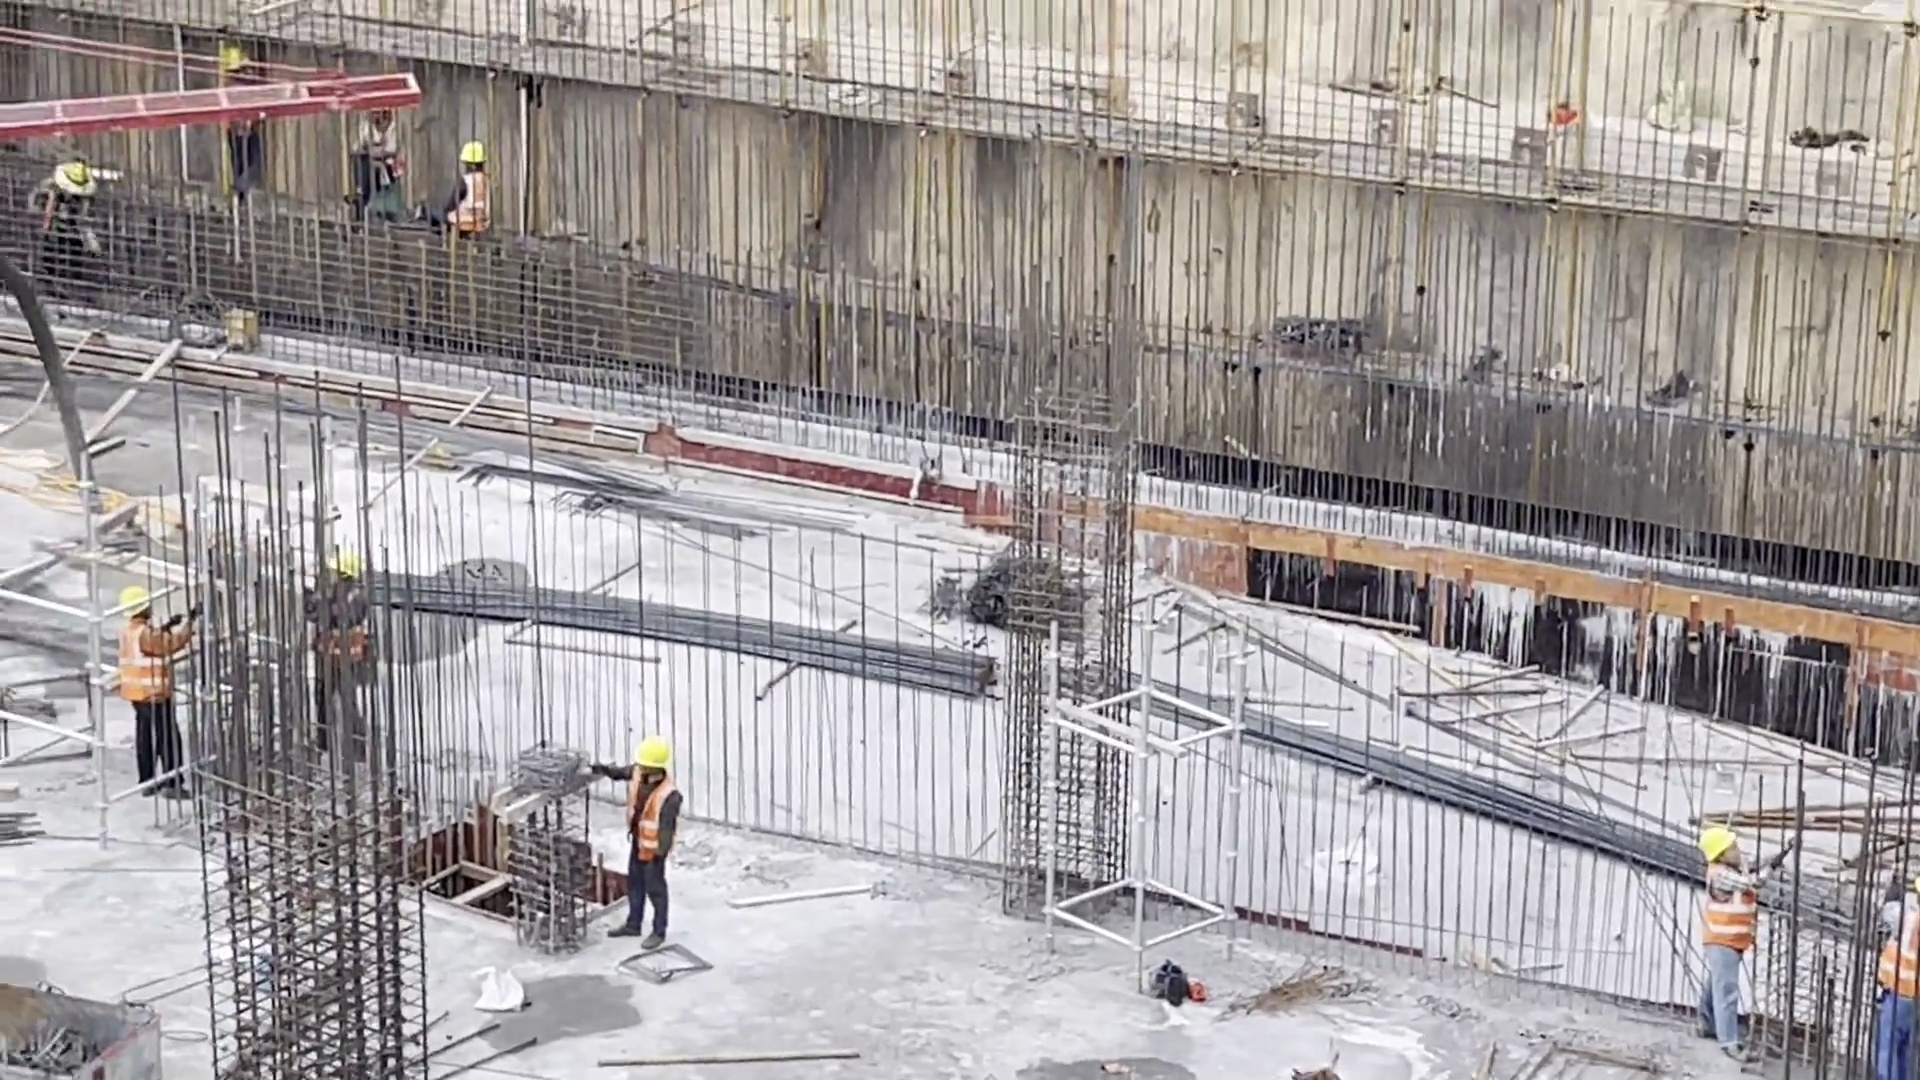helmet: (626, 731, 674, 776), (54, 153, 99, 199), (1695, 826, 1735, 863), (218, 42, 265, 73), (110, 587, 160, 613), (454, 136, 486, 168)
person: (282, 545, 376, 769), (109, 579, 199, 808), (602, 729, 688, 957), (1708, 815, 1773, 1057), (25, 159, 105, 304), (1881, 869, 1920, 1078), (348, 115, 406, 218), (443, 139, 499, 239)
rebar: (1147, 653, 1690, 882), (405, 541, 1004, 703)
vest: (110, 622, 176, 709), (623, 774, 687, 863), (1713, 871, 1768, 954), (1877, 913, 1920, 1001), (454, 178, 496, 232)
